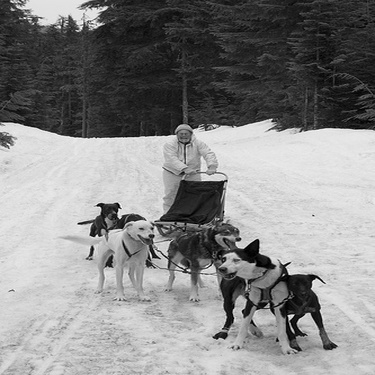dog: (199, 232, 281, 354), (54, 221, 158, 306), (165, 208, 245, 313), (261, 264, 341, 357), (108, 202, 165, 280), (80, 196, 123, 264)
